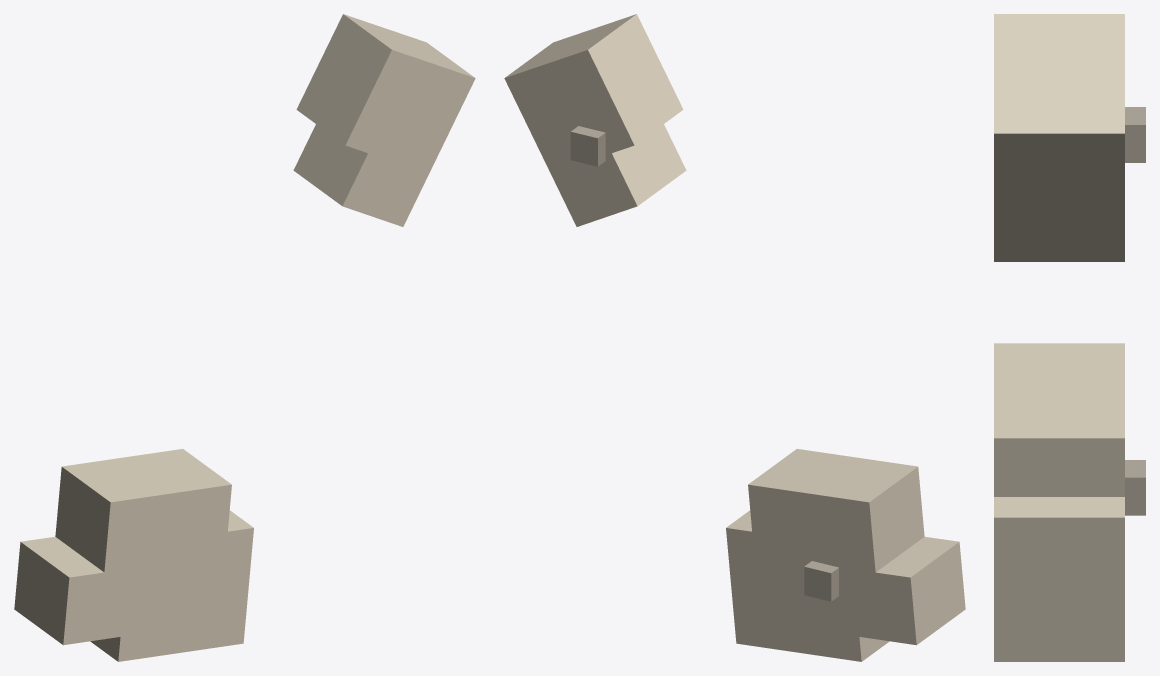
File: historic-palestine-15_34_3568_3284.glb
3 renders of one model, left to right at view 1: azimuth 30°, elevation 25°; view 2: azimuth 150°, elevation 25°; view 3: azimuth 270°, elevation 25°, orthographic. The views are drawn at different scales.
Parts seen in each view (by area): view 1: Building_, Building_.001; view 2: Building_, Building_.001, Roof access hut .001, Roof access hut; view 3: Building_, Building_.001, Roof access hut, Roof access hut .001.
Part boxes in pixels (bbox=[...]): Building_: bbox=[14, 449, 253, 661]; Building_.001: bbox=[293, 14, 475, 226]; Building_: bbox=[726, 449, 965, 661]; Building_.001: bbox=[504, 14, 686, 226]; Roof access hut .001: bbox=[570, 126, 605, 166]; Roof access hut: bbox=[804, 561, 838, 601]; Building_: bbox=[994, 343, 1124, 661]; Building_.001: bbox=[994, 14, 1124, 261]; Roof access hut: bbox=[1125, 460, 1145, 515]; Roof access hut .001: bbox=[1125, 107, 1145, 162].
Bounding box in the file's own units: 36.47 × 47.11 × 8.7.
